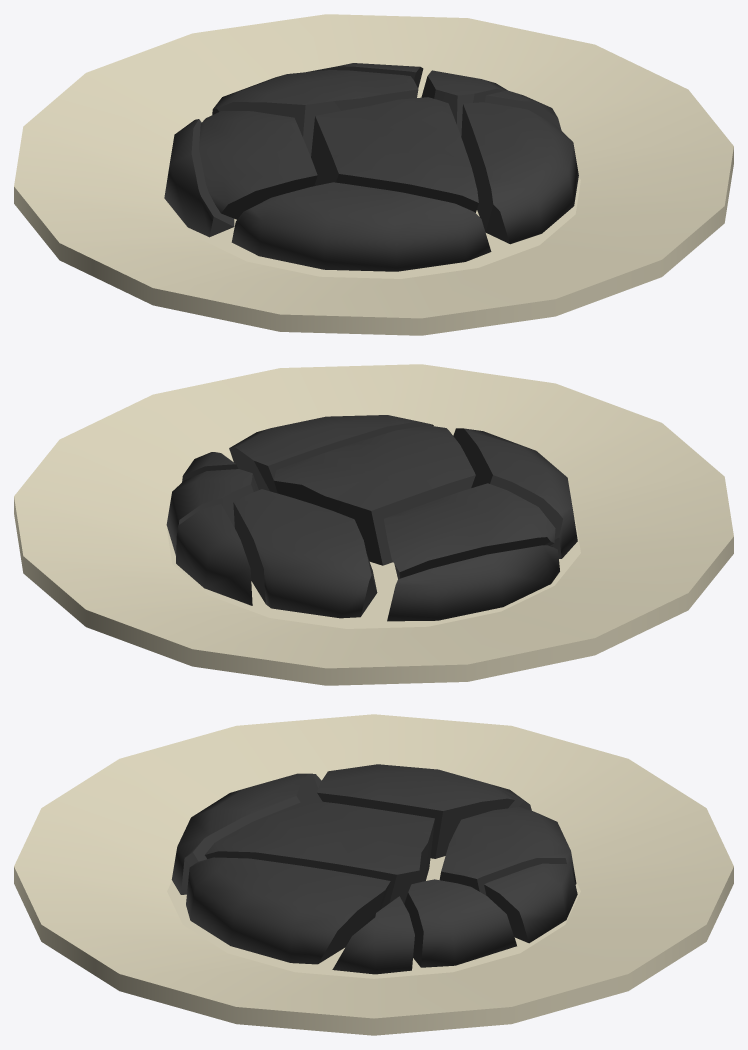
The model's file is PithiviersOverCooked.fbx.
The picture shows the model from 3 angles, top to bottom: view 1: azimuth 30°, elevation 25°; view 2: azimuth 150°, elevation 25°; view 3: azimuth 270°, elevation 25°; orthographic projection.
Visible parts, largest first — view 1: Pithiviers_OverCooked; view 2: Pithiviers_OverCooked; view 3: Pithiviers_OverCooked.
Boxes of the visible parts, x1,y1,x2,y2 form: Pithiviers_OverCooked: [14, 14, 733, 335]; Pithiviers_OverCooked: [14, 364, 733, 685]; Pithiviers_OverCooked: [14, 714, 733, 1035].
Size of the model in its own units: 0.6488 by 0.6488 by 0.0994.
